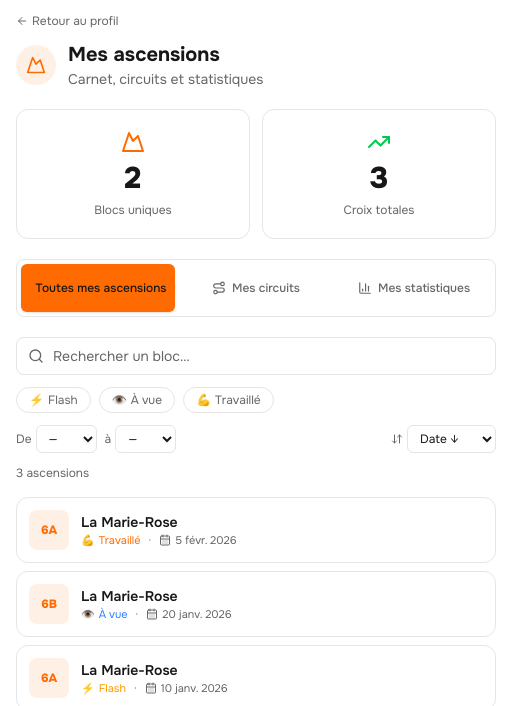
MesAscensionsPage › with tick data › shows the annotation button on the stats tab
The width and height of the screenshot is (513, 706).
Click the tab with test id "tab-stats". click: (414, 288)
box: [337,264,491,312]
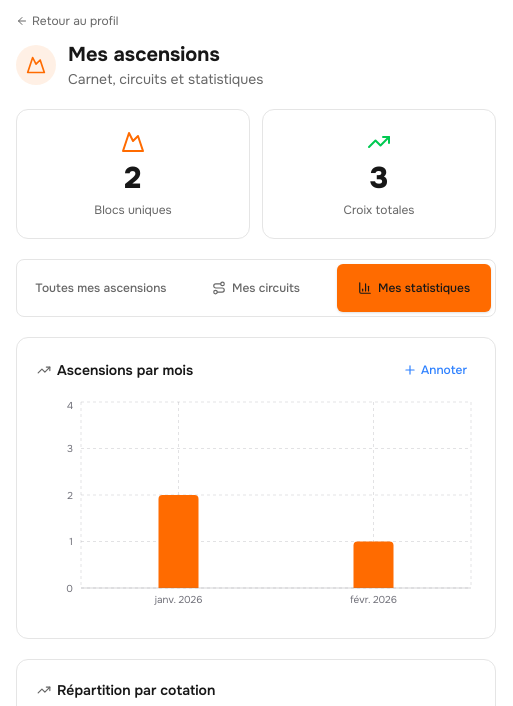
Expected: the button "Annoter" is shown, [395,358,475,382]
